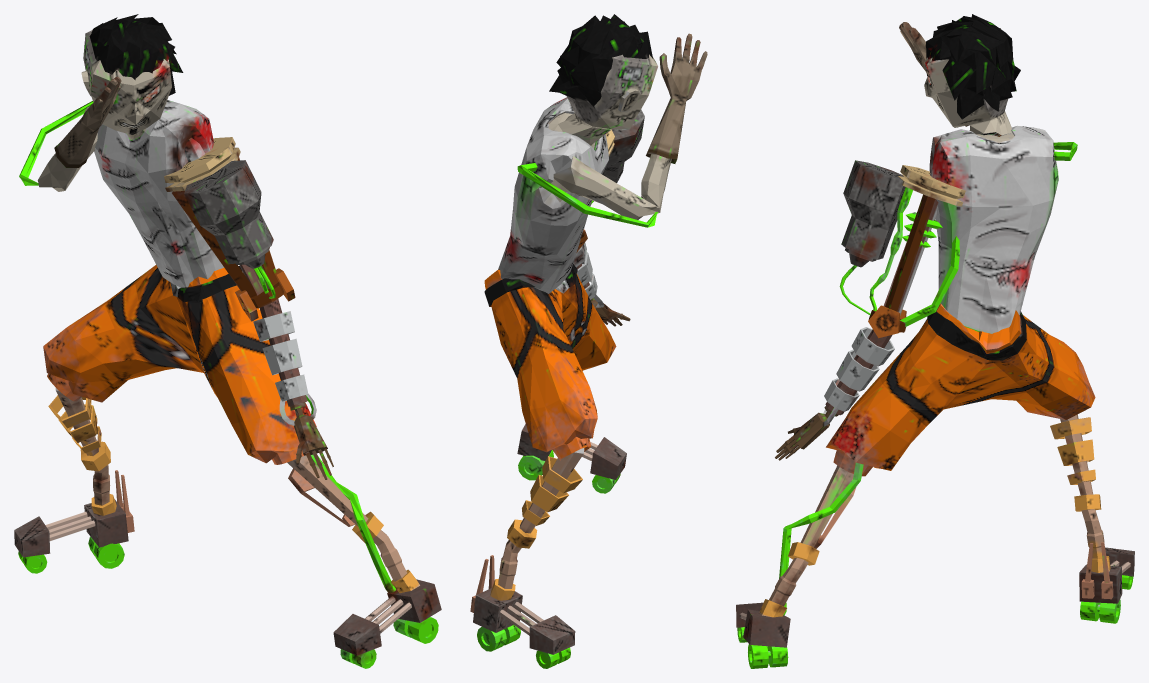
The model's file is CyborgFINALAnimation_000001.obj.
3 renders of one model, left to right at view 1: azimuth 30°, elevation 25°; view 2: azimuth 150°, elevation 25°; view 3: azimuth 270°, elevation 25°, orthographic. The views are drawn at different scales.
Visible parts, largest first — view 1: CyborgMesh_Cube.002; view 2: CyborgMesh_Cube.002; view 3: CyborgMesh_Cube.002.
Part boxes in pixels (x1,y1,x2,y2): CyborgMesh_Cube.002: (14, 14, 441, 668); CyborgMesh_Cube.002: (470, 14, 707, 668); CyborgMesh_Cube.002: (736, 14, 1134, 668).
Bounding box in the file's own units: 4.1 × 8.69 × 5.42.
